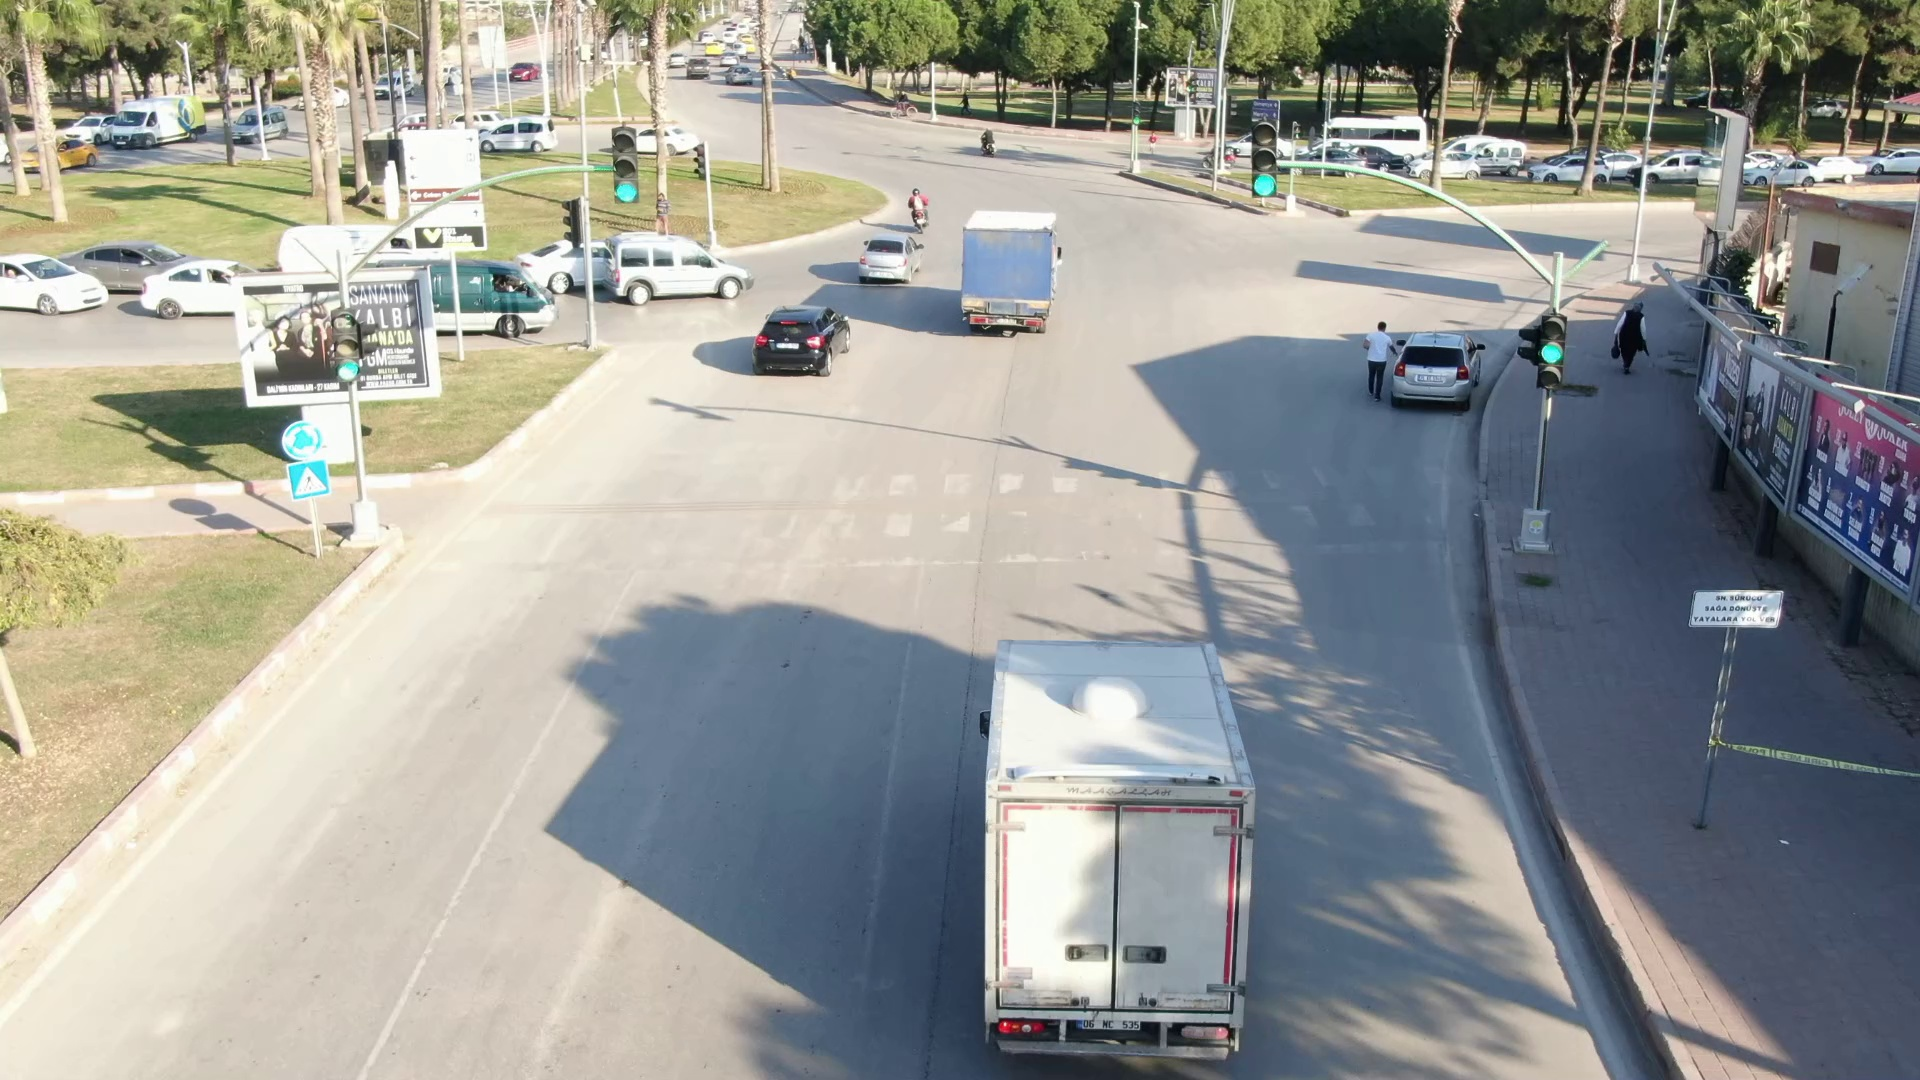car: (601, 226, 759, 306), (747, 296, 866, 383), (1390, 322, 1491, 414), (849, 226, 930, 293), (1521, 147, 1614, 193)
person: (1606, 296, 1655, 381), (1356, 314, 1393, 411)
